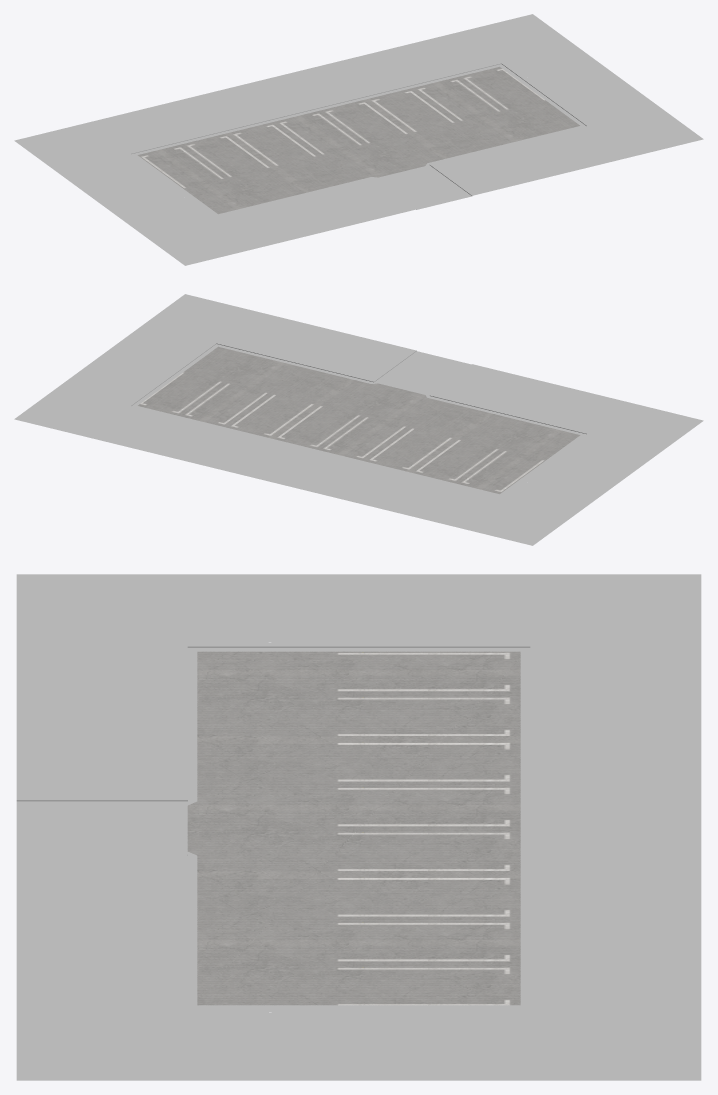
The model's file is Parking_f.FBX.
3 renders of one model, top to bottom at view 1: azimuth 30°, elevation 25°; view 2: azimuth 150°, elevation 25°; view 3: azimuth 270°, elevation 25°, orthographic. The views are drawn at different scales.
Parts seen in each view (by area): view 1: Parking_h; view 2: Parking_h; view 3: Parking_h.
Part boxes in pixels (x1,y1,x2,y2): Parking_h: (14,14,703,265); Parking_h: (14,294,703,545); Parking_h: (16,574,701,1080).
Bounding box in the file's own units: 140 × 80 × 0.1384.
